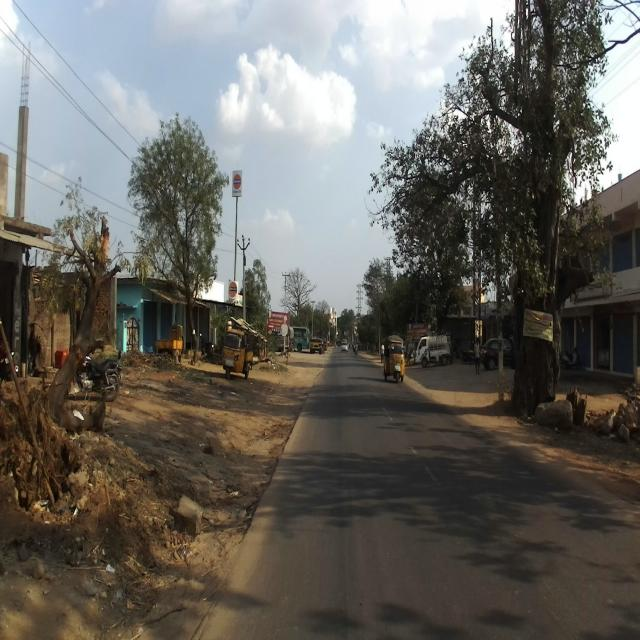motorcycle: (54, 344, 122, 402)
